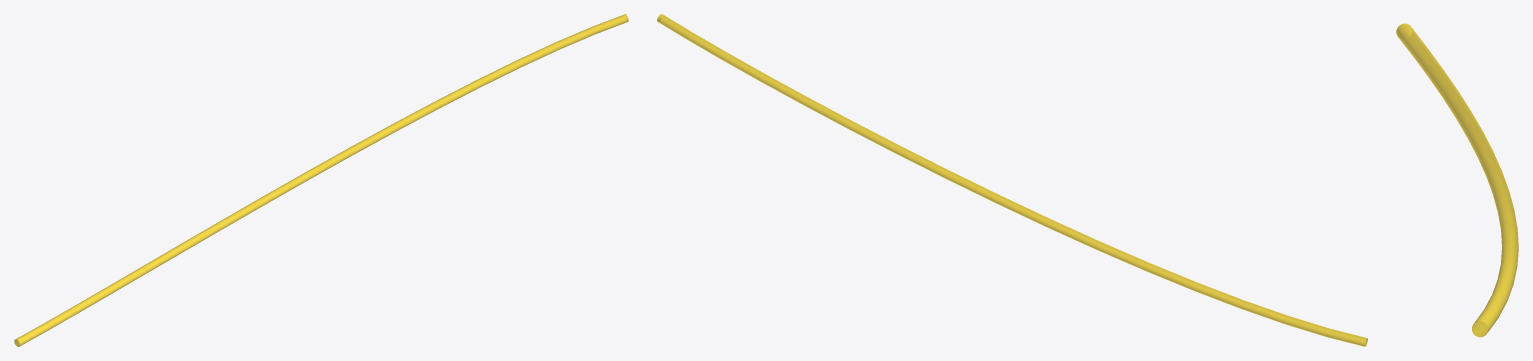
The model's file is Event_75125125_track_81.fbx.
3 views of the same model, side by side, from view 1: azimuth 30°, elevation 25°; view 2: azimuth 150°, elevation 25°; view 3: azimuth 270°, elevation 25° (orthographic). The views are drawn at different scales.
Visible parts, largest first — view 1: Model; view 2: Model; view 3: Model.
Boxes of the visible parts, <box> form: Model: <box>14,14,628,346</box>; Model: <box>657,14,1367,346</box>; Model: <box>1396,23,1518,337</box>.
Bounding box in the file's own units: 3.48 × 0.8721 × 0.2927.
